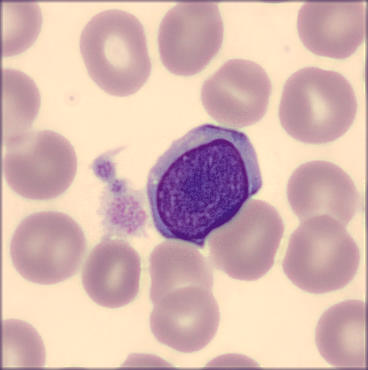WBC: (145, 122, 267, 247)
